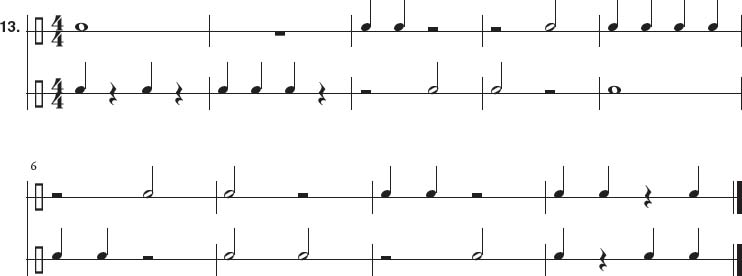half_up: (487, 58, 515, 104), (535, 1, 569, 38), (421, 58, 451, 99), (218, 225, 244, 268), (468, 222, 491, 263), (295, 226, 318, 265), (220, 163, 240, 203), (141, 162, 160, 204)
quarter_up: (683, 163, 707, 199), (686, 223, 707, 264), (250, 60, 273, 97), (595, 163, 618, 199), (282, 61, 304, 98), (94, 226, 116, 263), (50, 225, 70, 265), (423, 163, 444, 201), (378, 163, 399, 199), (214, 61, 236, 95), (391, 1, 413, 35), (552, 226, 571, 264), (642, 226, 661, 264), (74, 60, 92, 98), (141, 61, 159, 98), (551, 163, 569, 200), (638, 1, 659, 32), (358, 1, 377, 35), (605, 1, 624, 33), (673, 1, 691, 32)
rest: (288, 183, 321, 206), (355, 77, 382, 104), (464, 184, 494, 206), (269, 23, 297, 45), (483, 18, 510, 40), (538, 83, 568, 101), (137, 248, 164, 266), (420, 18, 444, 38), (376, 247, 399, 267), (46, 186, 70, 205)
rest_quarter: (635, 180, 661, 212), (591, 245, 615, 276), (169, 81, 187, 109), (105, 78, 121, 106), (314, 81, 331, 106)
whole: (603, 77, 627, 102), (73, 16, 92, 39)
